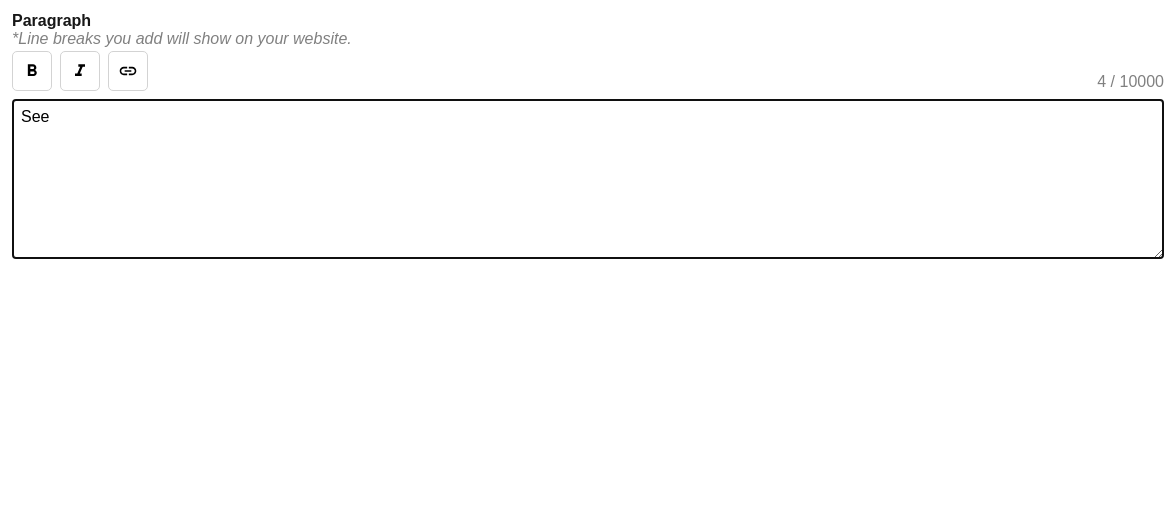
ParagraphField formatting › adds a typed link at the cursor when nothing is highlighted
Step 1. Type keys "{Control>}k{/Control}"
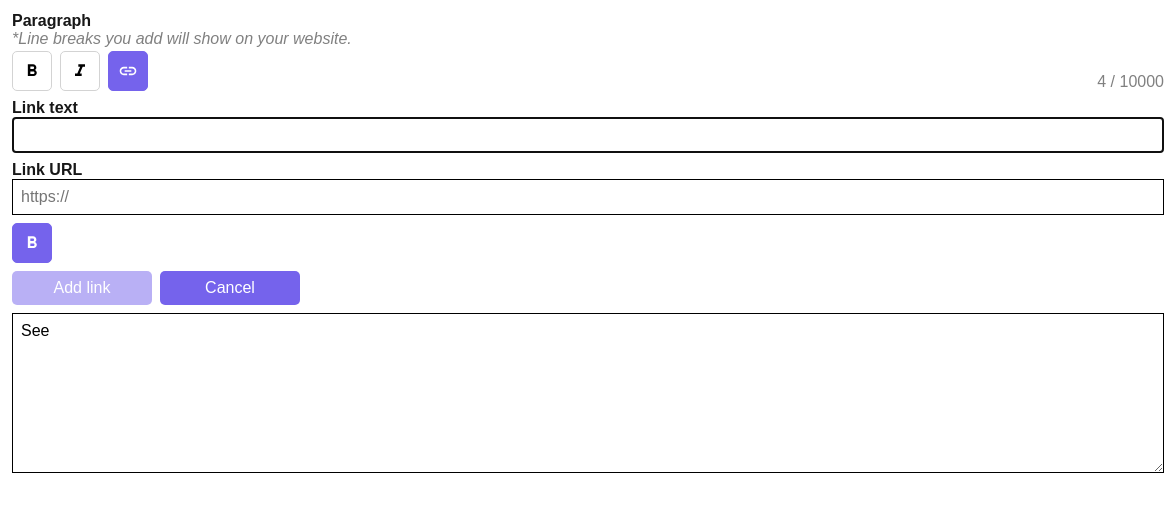
Step 2. Click the button "Add link" → (82, 288), box x1=12 y1=271 x2=152 y2=305
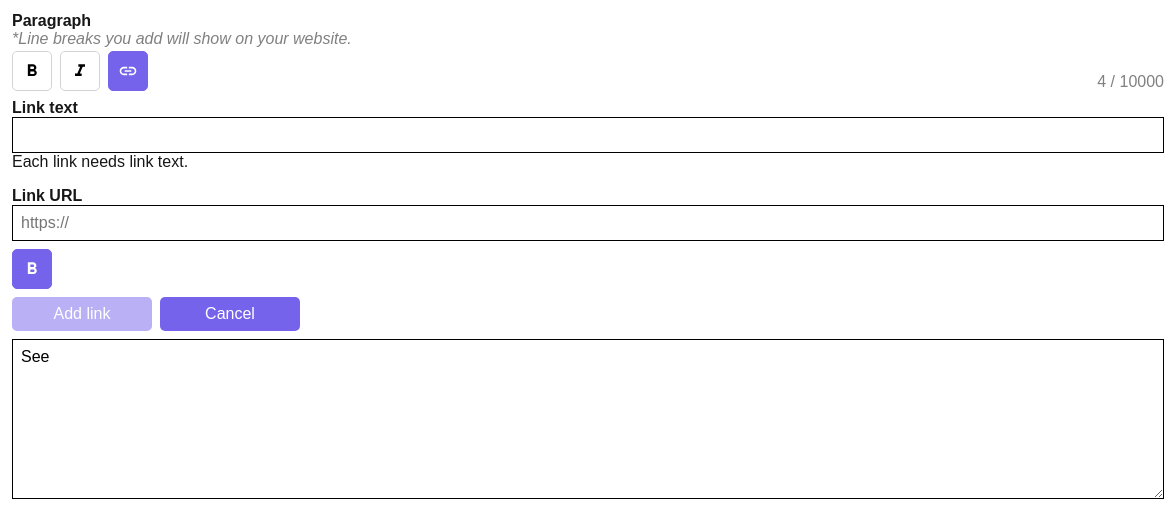
Result: the text "Each link needs link text." is shown at x1=12 y1=153 x2=188 y2=170
Step 3. Type "our menu" into the field labelled "Link text" → (588, 135), box x1=12 y1=117 x2=1164 y2=153
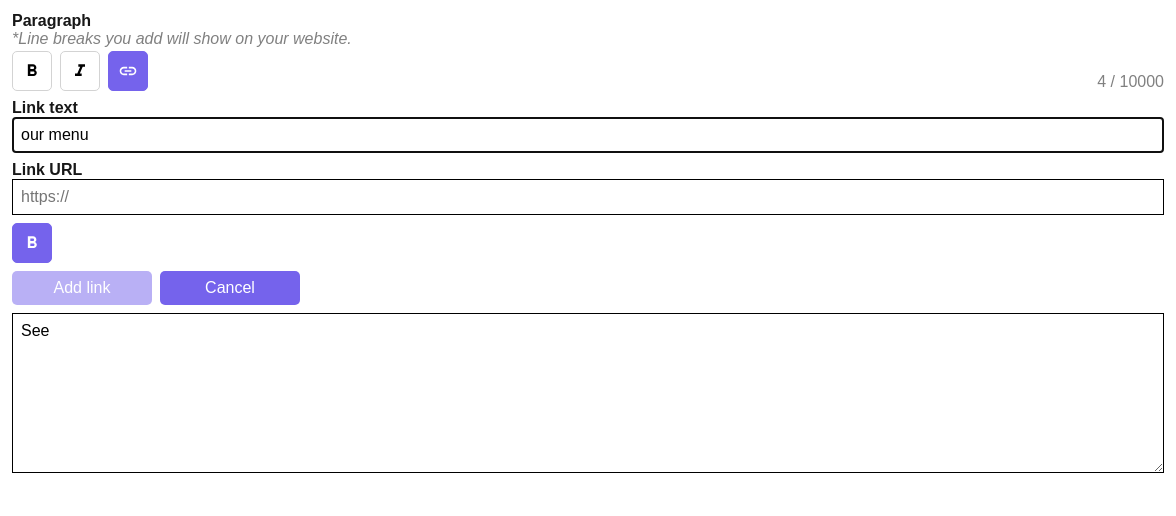
Step 4. Type "https://example.com/menu" into the field labelled "Link URL" → (588, 197), box x1=12 y1=179 x2=1164 y2=215
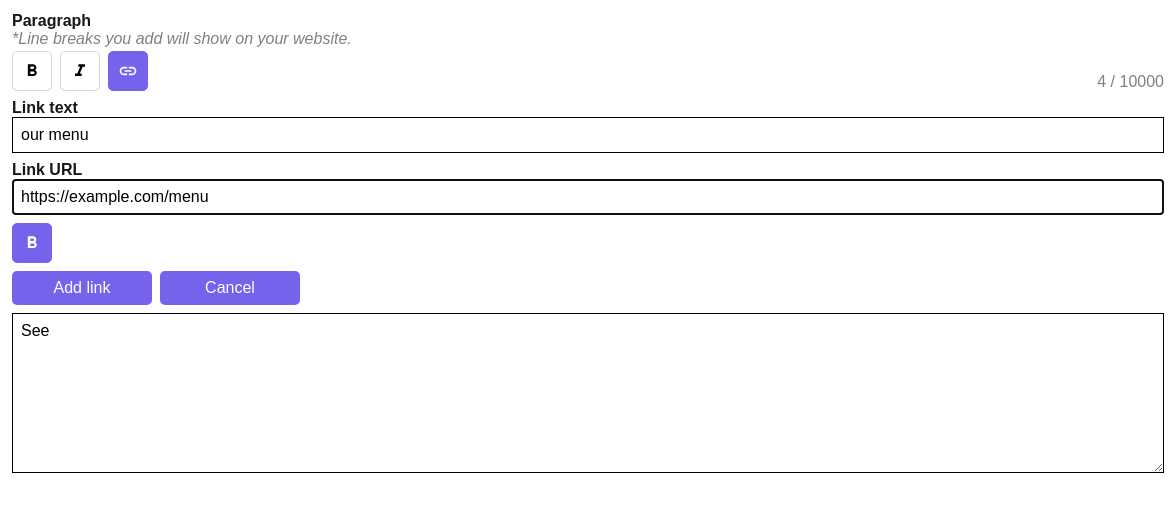
Step 5. Click the button "Add link" → (82, 288), box x1=12 y1=271 x2=152 y2=305
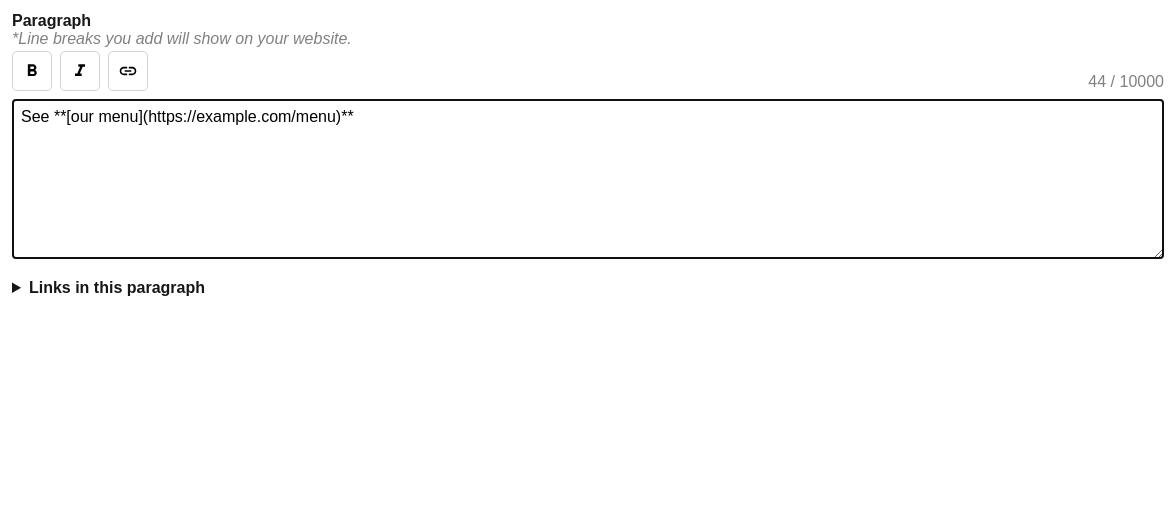
Result: the text box labelled "Paragraph" holds "See **[our menu](https://example.com/menu)**" at x1=12 y1=99 x2=1164 y2=259
